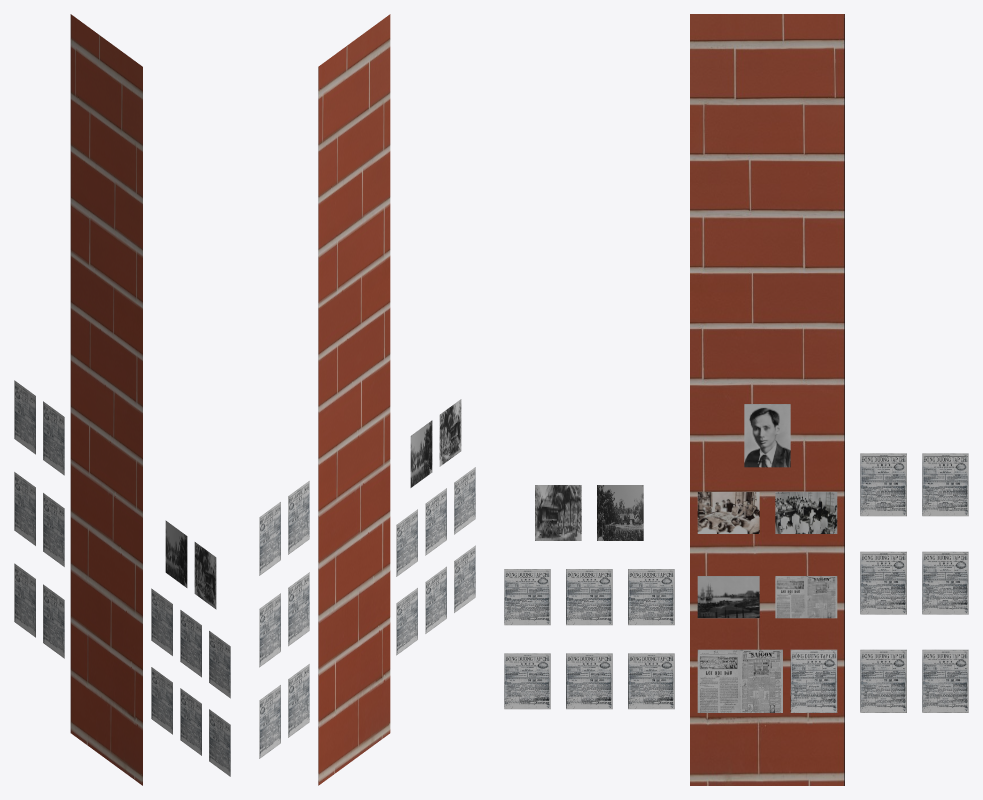
The model's file is PhongThuHai_CD.glb.
The picture shows the model from 3 angles, left to right: view 1: azimuth 30°, elevation 25°; view 2: azimuth 150°, elevation 25°; view 3: azimuth 270°, elevation 25°; orthographic projection. The views are drawn at different scales.
Parts seen in each view (by area): view 1: Plane.024, Plane.015, Plane.016, Plane.019, Plane.008, Plane.018, Plane.022, Plane.004, Plane.002, Plane.001, Plane.006, Plane.003 (+3 smaller); view 2: Plane.024, Plane.022, Plane.008, Plane.016, Plane.018, Plane.019, Plane.015, Plane.004, Plane.002, Plane.003, Plane.001, Plane.007 (+3 smaller); view 3: Plane.024, Plane.010, Plane.014, Plane.008, Plane.015, Plane.016, Plane.018, Plane.019, Plane.022, Plane.009, Plane.020, Plane.013 (+10 smaller).
Boxes of the visible parts, bbox=[...] form: Plane.024: bbox=[70, 14, 142, 785]; Plane.015: bbox=[14, 380, 35, 454]; Plane.016: bbox=[14, 563, 35, 637]; Plane.019: bbox=[14, 472, 35, 545]; Plane.008: bbox=[43, 584, 64, 658]; Plane.018: bbox=[43, 401, 64, 475]; Plane.022: bbox=[43, 493, 64, 566]; Plane.004: bbox=[165, 520, 187, 587]; Plane.002: bbox=[194, 542, 216, 609]; Plane.001: bbox=[209, 709, 230, 776]; Plane.006: bbox=[180, 688, 201, 755]; Plane.003: bbox=[180, 610, 201, 677]; Plane.024: bbox=[318, 14, 390, 785]; Plane.022: bbox=[288, 572, 309, 646]; Plane.008: bbox=[288, 664, 309, 737]; Plane.016: bbox=[259, 685, 280, 758]; Plane.018: bbox=[288, 481, 309, 554]; Plane.019: bbox=[259, 593, 280, 667]; Plane.015: bbox=[259, 502, 280, 575]; Plane.004: bbox=[410, 420, 432, 487]; Plane.002: bbox=[439, 399, 461, 466]; Plane.003: bbox=[425, 488, 446, 555]; Plane.001: bbox=[454, 545, 475, 612]; Plane.007: bbox=[396, 588, 417, 655]; Plane.024: bbox=[690, 14, 844, 785]; Plane.010: bbox=[697, 649, 782, 712]; Plane.014: bbox=[790, 649, 837, 712]; Plane.008: bbox=[860, 649, 906, 712]; Plane.015: bbox=[922, 453, 968, 516]; Plane.016: bbox=[922, 649, 968, 712]; Plane.018: bbox=[860, 453, 906, 516]; Plane.019: bbox=[922, 551, 968, 614]; Plane.022: bbox=[860, 551, 906, 614]; Plane.009: bbox=[744, 404, 790, 467]; Plane.020: bbox=[775, 576, 837, 618]; Plane.013: bbox=[697, 576, 759, 618].
Size of the model in its own units: 0.01 by 5.5 by 3.
Materials: 22 (22 with a texture image).
